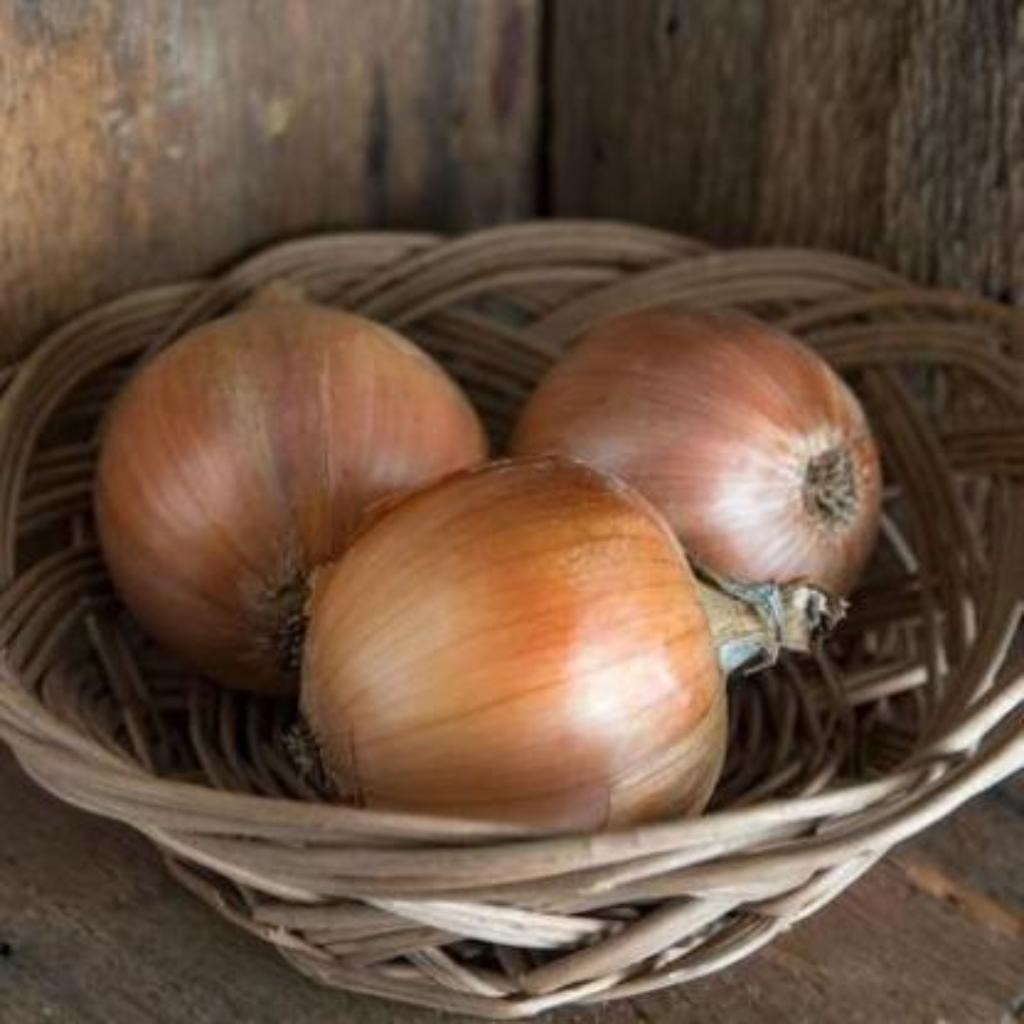Onion: (300, 460, 847, 831), (96, 283, 487, 695), (514, 313, 881, 597)
